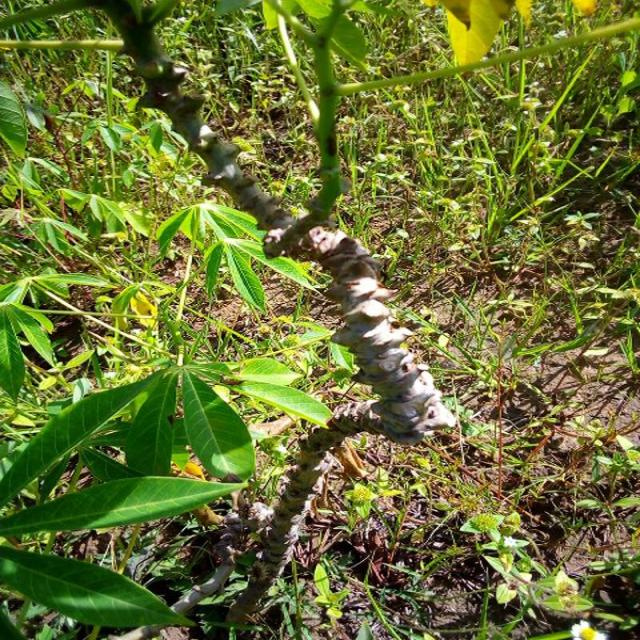cassava leaf: (0, 543, 196, 629), (0, 472, 248, 536), (180, 367, 255, 482)
